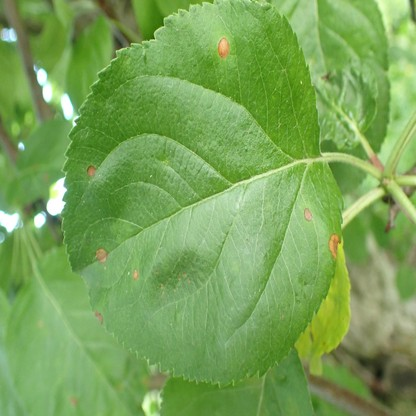frogeye_leaf_spot: (328, 234, 340, 262), (217, 37, 229, 59), (95, 247, 107, 263), (93, 311, 103, 325), (303, 207, 311, 223), (87, 165, 96, 176), (133, 268, 139, 280)
